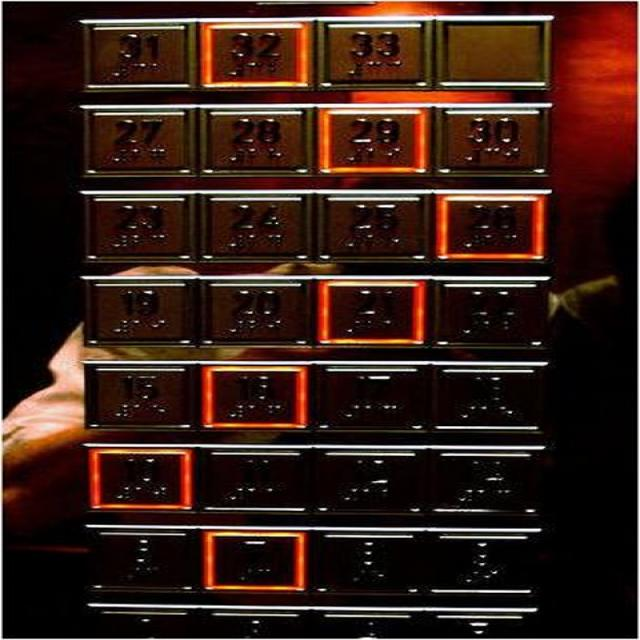11: (75, 440, 201, 516)
15: (76, 357, 203, 432)
16: (192, 358, 319, 434)
17: (308, 358, 435, 434)
19: (75, 273, 201, 349)
20: (195, 273, 321, 349)
21: (307, 274, 433, 350)
22: (425, 274, 552, 350)
23: (75, 188, 201, 264)
24: (192, 188, 319, 264)
25: (311, 188, 437, 264)
26: (427, 188, 553, 264)
27: (73, 102, 200, 178)
28: (192, 102, 319, 178)
29: (311, 102, 437, 178)
30: (429, 100, 556, 178)
31: (75, 16, 200, 94)
32: (192, 16, 317, 94)
33: (311, 14, 436, 92)
blur: (424, 359, 551, 435), (191, 442, 317, 518), (308, 444, 435, 519), (421, 443, 548, 518), (75, 522, 201, 597), (190, 524, 314, 596), (306, 526, 430, 598), (420, 526, 544, 598)
empty: (431, 13, 556, 91)
